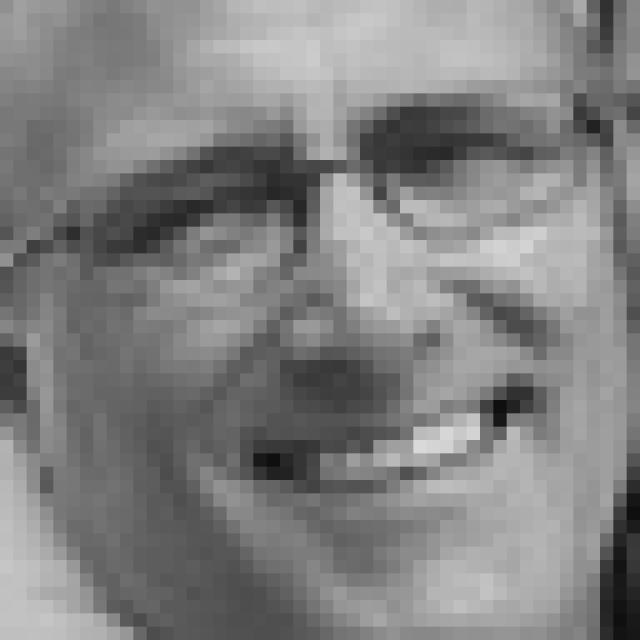happy: (76, 72, 576, 553)
